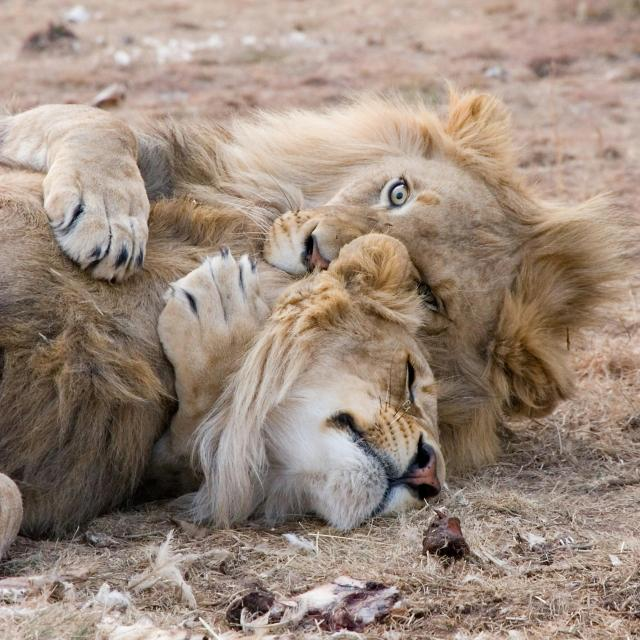Lion: (0, 88, 620, 506), (2, 168, 449, 572)
